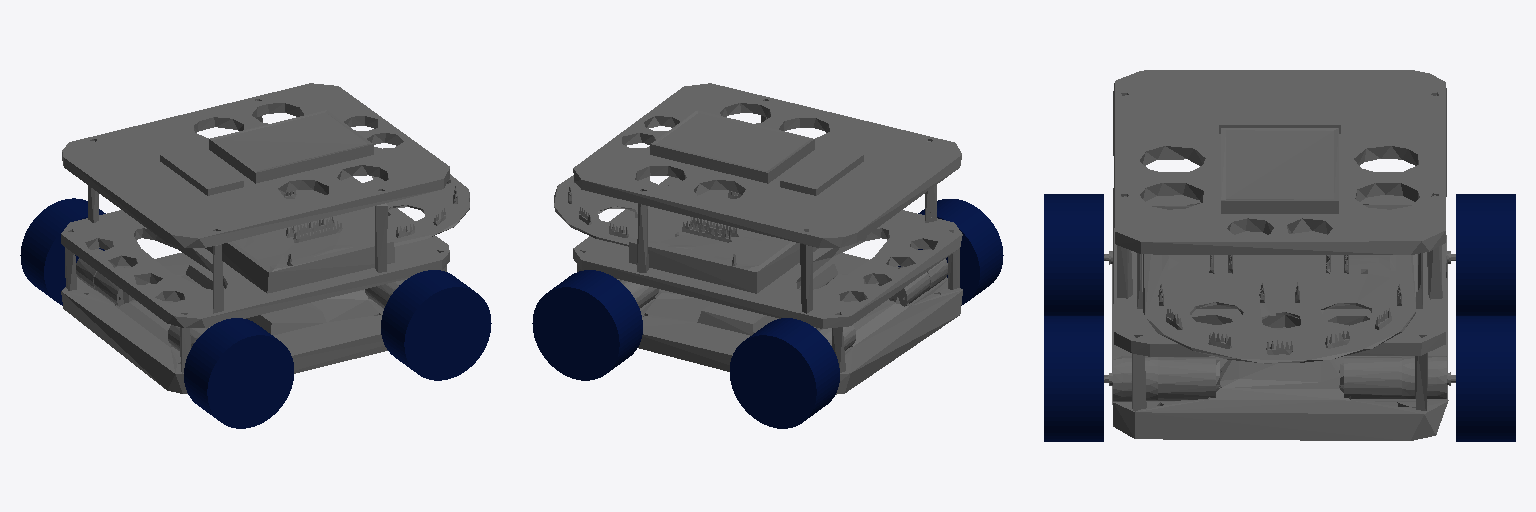
URDF robot description (ratze):
<robot name="ratze" version="1.0">
  <joint name="base_link_joint" type="fixed">
    <origin rpy="0.00000 0.00000 0.00000" xyz="-0.00000 0.00000 0.01363"/>
    <parent link="base_link"/>
    <child link="base_joint"/>
  </joint>
  <joint name="motor_2_joint" type="continuous">
    <limit effort="0.00000" velocity="0.00000"/>
    <origin rpy="0.00000 0.00000 0.00000" xyz="0.07687 0.11040 0.02150"/>
    <parent link="base_joint"/>
    <child link="motor_2"/>
    <axis xyz="0.00000 1.00000 0.00000"/>
  </joint>
  <joint name="ray_6" type="fixed">
    <origin rpy="0.00000 0.00000 1.04720" xyz="0.11600 0.05959 0.07143"/>
    <parent link="base_joint"/>
    <child link="ray_6_link"/>
  </joint>
  <joint name="ray_7" type="fixed">
    <origin rpy="0.00000 0.00000 1.57080" xyz="0.08072 0.06952 0.07143"/>
    <parent link="base_joint"/>
    <child link="ray_7_link"/>
  </joint>
  <joint name="motor_3_joint" type="continuous">
    <limit effort="0.00000" velocity="0.00000"/>
    <origin rpy="0.00000 0.00000 0.00000" xyz="-0.07688 0.11039 0.02150"/>
    <parent link="base_joint"/>
    <child link="motor_3"/>
    <axis xyz="0.00000 1.00000 0.00000"/>
  </joint>
  <joint name="motor_4_joint" type="continuous">
    <limit effort="0.00000" velocity="0.00000"/>
    <origin rpy="0.00000 0.00000 0.00000" xyz="-0.07688 -0.11040 0.02149"/>
    <parent link="base_joint"/>
    <child link="motor_4"/>
    <axis xyz="0.00000 -1.00000 0.00000"/>
  </joint>
  <joint name="motor_joint_1" type="continuous">
    <limit effort="0.00000" velocity="0.00000"/>
    <origin rpy="0.00000 0.00000 0.00000" xyz="0.07687 -0.11040 0.02149"/>
    <parent link="base_joint"/>
    <child link="motor_1"/>
    <axis xyz="0.00000 -1.00000 0.00000"/>
  </joint>
  <joint name="ray_1" type="fixed">
    <origin rpy="0.00000 0.00000 -1.57080" xyz="0.08177 -0.06874 0.07143"/>
    <parent link="base_joint"/>
    <child link="ray_1_link"/>
  </joint>
  <joint name="ray_2" type="fixed">
    <origin rpy="0.00000 0.00000 -1.04720" xyz="0.11585 -0.05960 0.07143"/>
    <parent link="base_joint"/>
    <child link="ray_2_link"/>
  </joint>
  <joint name="ray_3" type="fixed">
    <origin rpy="0.00000 0.00000 -0.52360" xyz="0.14198 -0.03445 0.07143"/>
    <parent link="base_joint"/>
    <child link="ray_3_link"/>
  </joint>
  <joint name="ray_4" type="fixed">
    <origin rpy="0.00000 0.00000 0.00000" xyz="0.14891 -0.00000 0.07143"/>
    <parent link="base_joint"/>
    <child link="ray_4_link"/>
  </joint>
  <joint name="ray_5" type="fixed">
    <origin rpy="0.00000 0.00000 0.52360" xyz="0.14058 0.03257 0.07143"/>
    <parent link="base_joint"/>
    <child link="ray_5_link"/>
  </joint>
  <link name="base_link">
    <collision name="base_collision">
      <origin rpy="0.00000 0.00000 0.00000" xyz="0.02306 0.00000 0.07638"/>
      <geometry>
        <box size="0.26612 0.18000 0.12550"/>
      </geometry>
    </collision>
    <inertial>
      <inertia ixx="0.00166" ixy="0.00000" ixz="-0.00000" iyy="0.00219" iyz="0.00000" izz="0.00256"/>
      <origin rpy="0.00000 0.00000 0.00000" xyz="0.00284 0.00001 0.06068"/>
      <mass value="0.50000"/>
    </inertial>
    <visual name="base">
      <material name="Material.001"/>
      <origin rpy="0.00000 0.00000 0.00000" xyz="0.00000 0.00000 0.01363"/>
      <geometry>
        <mesh filename="package://ratze_description/meshes/stl/base.007.stl" scale="1.00000 1.00000 1.00000"/>
      </geometry>
    </visual>
  </link>
  <link name="base_joint">
    <sensor name="imu" type="imu">
      <parent link="base_joint"/>
    </sensor>
  </link>
  <link name="ray_5_link"/>
  <link name="ray_6_link"/>
  <link name="ray_7_link"/>
  <link name="motor_2">
    <collision name="wheel_2_collision">
      <origin rpy="1.57080 0.00000 0.00000" xyz="0.00000 -0.00014 0.00000"/>
      <geometry>
        <cylinder radius="0.03400" length="0.03175"/>
      </geometry>
    </collision>
    <inertial>
      <inertia ixx="0.00003" ixy="0.00000" ixz="0.00000" iyy="0.00003" iyz="0.00000" izz="0.00003"/>
      <origin rpy="0.00000 0.00000 0.00000" xyz="0.00000 0.00000 0.00000"/>
      <mass value="0.05000"/>
    </inertial>
    <visual name="wheel_2">
      <material name="Blue"/>
      <origin rpy="0.00000 0.00000 0.00000" xyz="-0.07687 -0.11040 -0.02150"/>
      <geometry>
        <mesh filename="package://ratze_description/meshes/stl/Cylinder.001.stl" scale="1.00000 1.00000 1.00000"/>
      </geometry>
    </visual>
  </link>
  <link name="motor_3">
    <collision name="wheel_3_collision">
      <origin rpy="1.57080 0.00000 0.00000" xyz="0.00000 -0.00014 0.00000"/>
      <geometry>
        <cylinder radius="0.03400" length="0.03175"/>
      </geometry>
    </collision>
    <inertial>
      <inertia ixx="0.00003" ixy="0.00000" ixz="0.00000" iyy="0.00003" iyz="0.00000" izz="0.00003"/>
      <origin rpy="0.00000 0.00000 0.00000" xyz="-0.00000 0.00000 0.00000"/>
      <mass value="0.05000"/>
    </inertial>
    <visual name="wheel_3">
      <material name="Blue"/>
      <origin rpy="0.00000 0.00000 0.00000" xyz="0.07688 -0.11039 -0.02150"/>
      <geometry>
        <mesh filename="package://ratze_description/meshes/stl/Cylinder.003.stl" scale="1.00000 1.00000 1.00000"/>
      </geometry>
    </visual>
  </link>
  <link name="motor_4">
    <collision name="wheel_4_collision">
      <origin rpy="1.57080 0.00000 0.00000" xyz="0.00000 0.00014 0.00000"/>
      <geometry>
        <cylinder radius="0.03400" length="0.03175"/>
      </geometry>
    </collision>
    <inertial>
      <inertia ixx="0.00003" ixy="0.00000" ixz="0.00000" iyy="0.00003" iyz="0.00000" izz="0.00003"/>
      <origin rpy="0.00000 0.00000 0.00000" xyz="-0.00000 -0.00000 0.00000"/>
      <mass value="0.05000"/>
    </inertial>
    <visual name="wheel_4">
      <material name="Blue"/>
      <origin rpy="0.00000 0.00000 0.00000" xyz="0.07688 0.11040 -0.02149"/>
      <geometry>
        <mesh filename="package://ratze_description/meshes/stl/Cylinder.002.stl" scale="1.00000 1.00000 1.00000"/>
      </geometry>
    </visual>
  </link>
  <link name="motor_1">
    <collision name="wheel_1_collision">
      <origin rpy="1.57080 0.00000 0.00000" xyz="0.00000 0.00014 0.00000"/>
      <geometry>
        <cylinder radius="0.03400" length="0.03175"/>
      </geometry>
    </collision>
    <inertial>
      <inertia ixx="0.00003" ixy="0.00000" ixz="0.00000" iyy="0.00003" iyz="0.00000" izz="0.00003"/>
      <origin rpy="0.00000 0.00000 0.00000" xyz="0.00000 0.00000 0.00000"/>
      <mass value="0.05000"/>
    </inertial>
    <visual name="wheel_1">
      <material name="Blue"/>
      <origin rpy="0.00000 0.00000 0.00000" xyz="-0.07687 0.11040 -0.02149"/>
      <geometry>
        <mesh filename="package://ratze_description/meshes/stl/Cylinder.stl" scale="1.00000 1.00000 1.00000"/>
      </geometry>
    </visual>
  </link>
  <link name="ray_1_link"/>
  <link name="ray_2_link"/>
  <link name="ray_3_link"/>
  <link name="ray_4_link"/>
  <material name="Blue">
    <color rgba="0.03922 0.10588 0.30196 1.00000"/>
  </material>
  <material name="Material.001">
    <color rgba="0.45098 0.45098 0.45098 1.00000"/>
  </material>
</robot>

--- Render facts (derived) ---
Views: 3 orthographic renders of the robot side by side, from view 1: azimuth 30°, elevation 25°; view 2: azimuth 150°, elevation 25°; view 3: azimuth 270°, elevation 25°.
Robot: ratze — 13 links, 12 joints (4 continuous, 8 fixed); root link base_link; default pose: every joint at zero.
Visible links, largest first — view 1: base_link, motor_4, motor_1, motor_3; view 2: base_link, motor_2, motor_3, motor_4; view 3: base_link, motor_2, motor_1, motor_3, motor_4.
Boxes of the visible links, bbox=[...] form: base_link: bbox=[61, 83, 469, 393]; motor_4: bbox=[184, 318, 293, 428]; motor_1: bbox=[381, 270, 491, 380]; motor_3: bbox=[20, 198, 105, 305]; base_link: bbox=[554, 83, 962, 394]; motor_2: bbox=[532, 270, 642, 380]; motor_3: bbox=[730, 318, 839, 428]; motor_4: bbox=[898, 199, 1003, 305]; base_link: bbox=[1104, 70, 1455, 440]; motor_2: bbox=[1456, 316, 1515, 441]; motor_1: bbox=[1044, 316, 1103, 441]; motor_3: bbox=[1456, 194, 1515, 315]; motor_4: bbox=[1044, 194, 1103, 315].
Size in the robot's own frame: 0.2668 by 0.2525 by 0.138 metres.
Meshes: 5 distinct files referenced, 5 mesh visuals loaded (5 binary STL).
